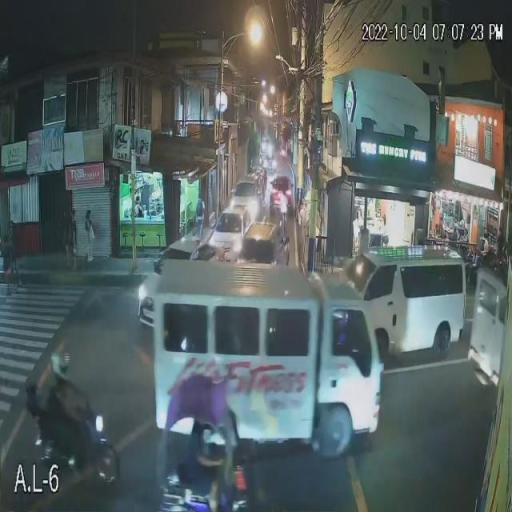helmet: (48, 344, 74, 382)
motorcycle: (64, 412, 124, 488)
rider: (38, 371, 61, 454)
